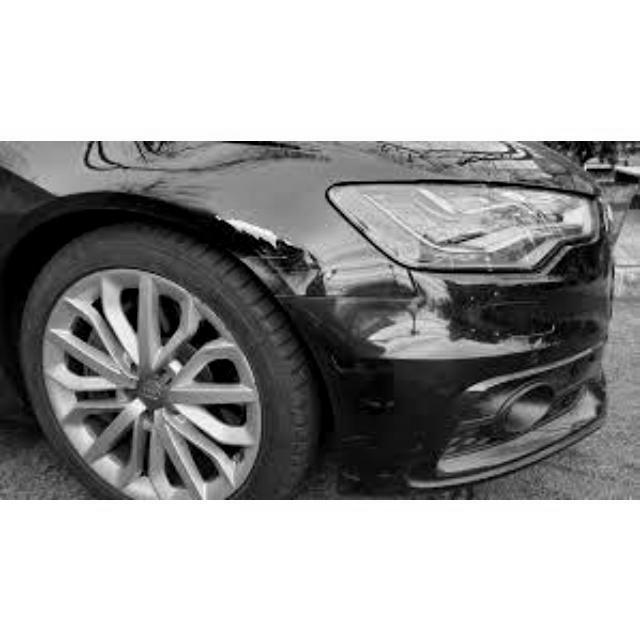fender-dent: (0, 140, 338, 296)
front-bumper-dent: (257, 283, 578, 497)
